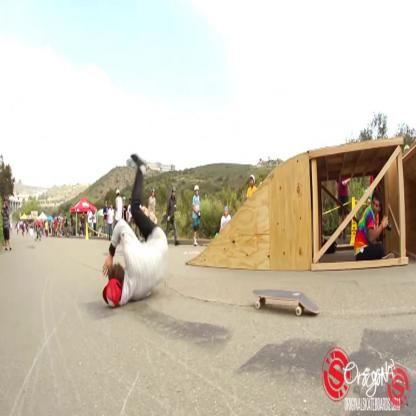Fall_Down: (100, 153, 171, 310)
